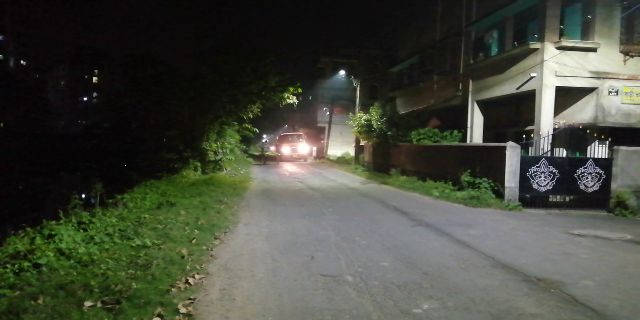Truck: (277, 131, 311, 165)
